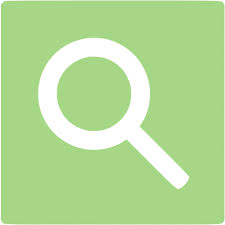searchIcon: (35, 36, 187, 184)
